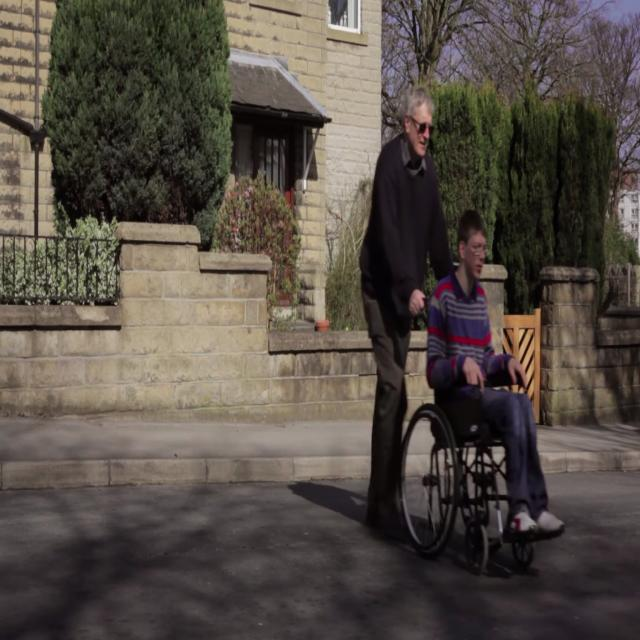wheelchairs: (406, 302, 550, 576)
